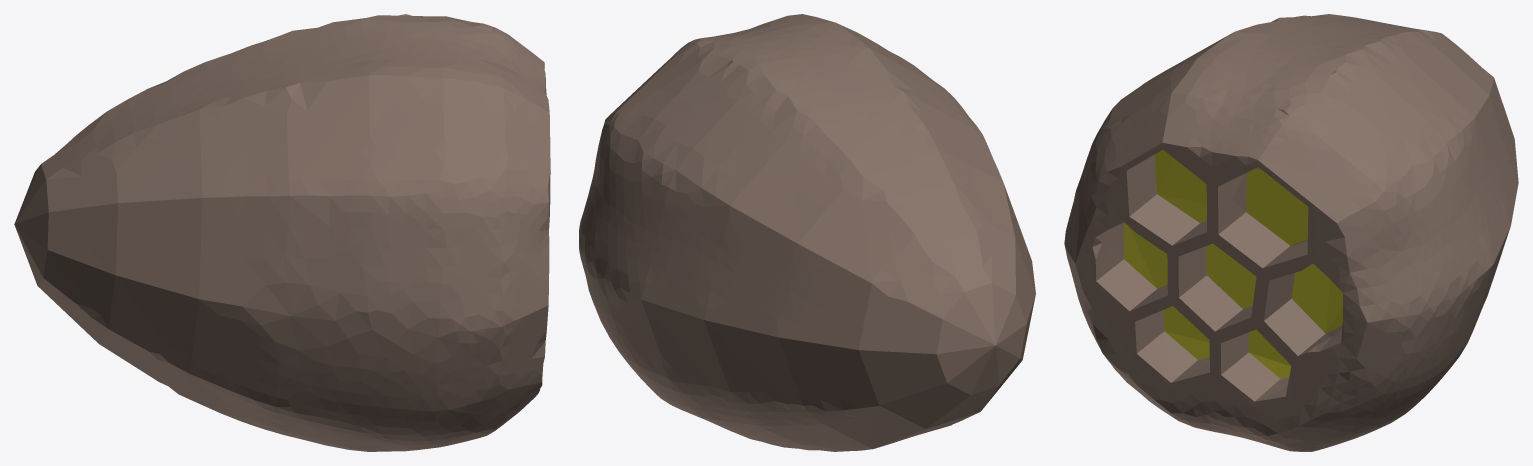
File: Soothesayer Honey.glb
The picture shows the model from 3 angles, left to right: view 1: azimuth 30°, elevation 25°; view 2: azimuth 150°, elevation 25°; view 3: azimuth 270°, elevation 25°; orthographic projection. The views are drawn at different scales.
Parts seen in each view (by area): view 1: Sphere; view 2: Sphere; view 3: Sphere.
Part boxes in pixels (box(x1,y1,x2,y2)): Sphere: box(14, 14, 550, 451); Sphere: box(579, 14, 1035, 451); Sphere: box(1064, 14, 1518, 451).
Size of the model in its own units: 2.83 by 2.19 by 2.42.
Materials: 1 (1 with a texture image).
